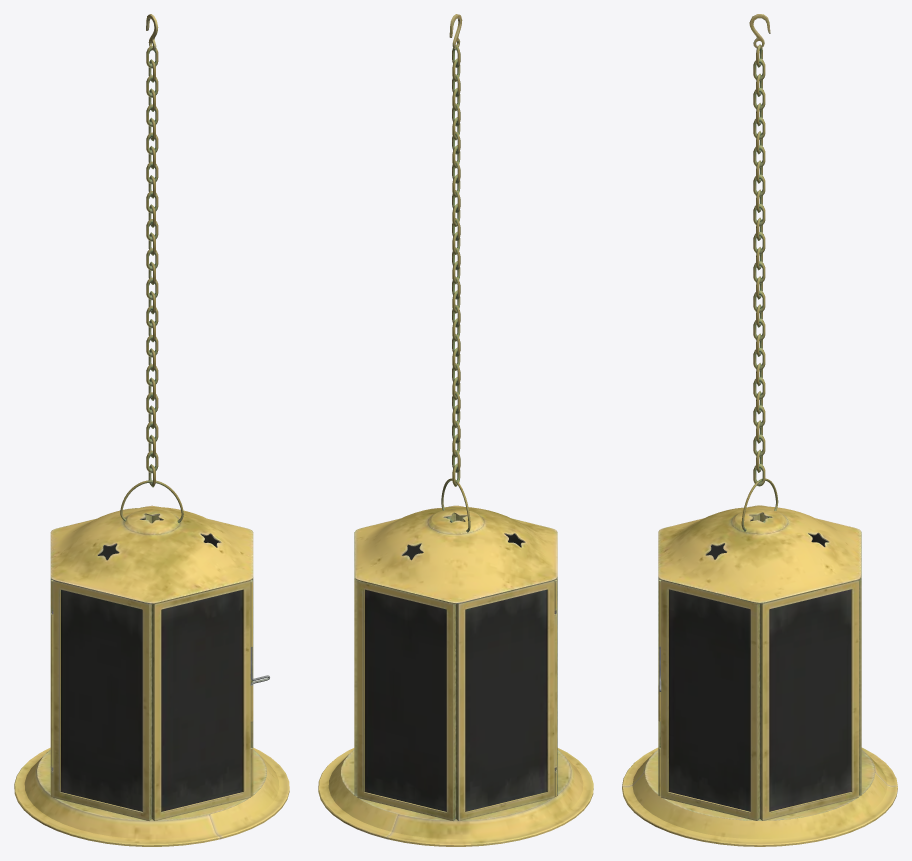
The model's file is brass_diya_lantern.gltf.
The picture shows the model from 3 angles, left to right: view 1: azimuth 30°, elevation 25°; view 2: azimuth 150°, elevation 25°; view 3: azimuth 270°, elevation 25°; orthographic projection.
Visible parts, largest first — view 1: brass_diya_lantern, brass_diya_lantern_chain; view 2: brass_diya_lantern, brass_diya_lantern_chain; view 3: brass_diya_lantern, brass_diya_lantern_chain.
Part boxes in pixels (left/top/right/bottom): brass_diya_lantern: left=14, top=505, right=289, bottom=846; brass_diya_lantern_chain: left=146, top=14, right=158, bottom=487; brass_diya_lantern: left=318, top=505, right=593, bottom=846; brass_diya_lantern_chain: left=449, top=14, right=462, bottom=486; brass_diya_lantern: left=622, top=505, right=897, bottom=846; brass_diya_lantern_chain: left=749, top=14, right=770, bottom=486.
Bounding box in the file's own units: 0.123 × 0.3808 × 0.123.
Materials: 3 (3 with a texture image).
